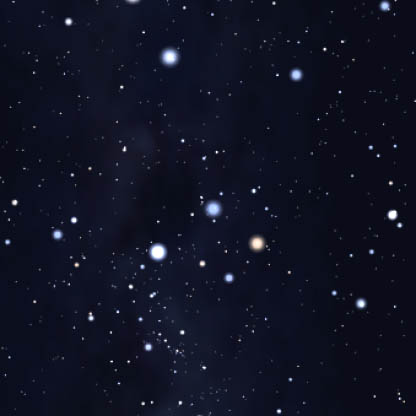Southern Cross: (198, 192, 228, 226), (142, 243, 172, 269), (242, 232, 269, 258), (214, 267, 239, 286)
